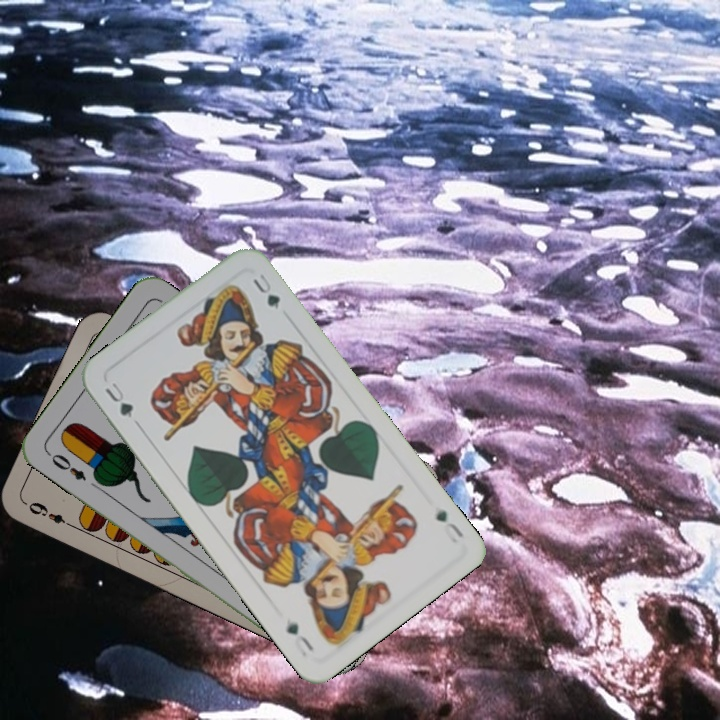E9: (24, 498, 77, 531)
EO: (43, 448, 89, 484)
GU: (100, 378, 136, 421), (431, 506, 466, 540)
